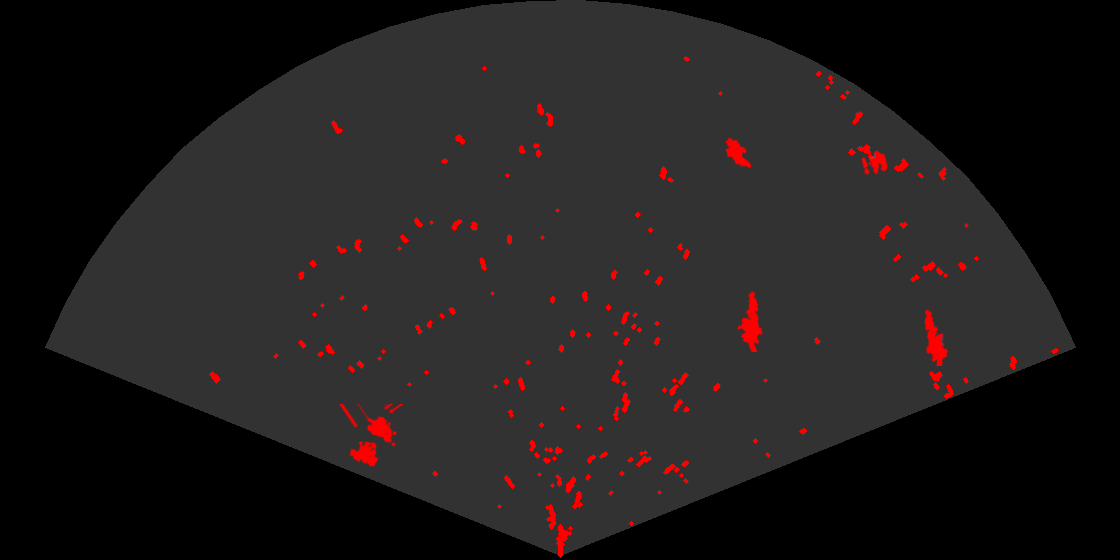AUV: (724, 136, 753, 170)
ball: (860, 149, 889, 177)
cage: (337, 404, 405, 468)
frogman: (735, 289, 764, 352), (923, 308, 950, 366)
